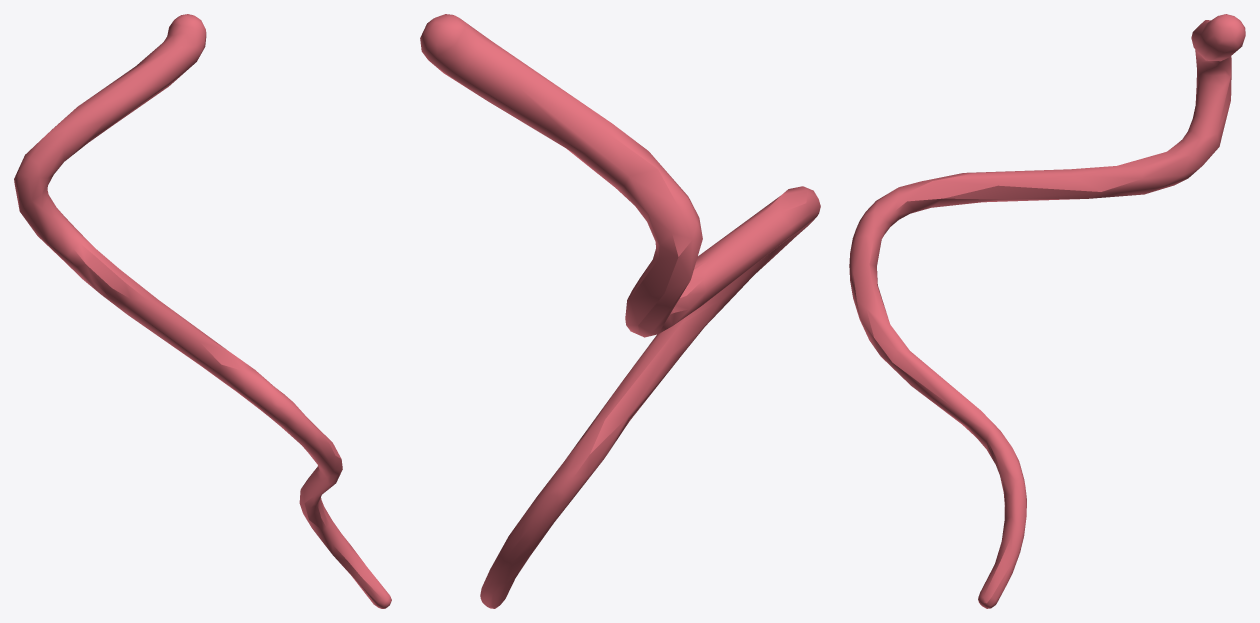
File: fma85529_fj4713.glb
3 renders of one model, left to right at view 1: azimuth 30°, elevation 25°; view 2: azimuth 150°, elevation 25°; view 3: azimuth 270°, elevation 25°, orthographic. The views are drawn at different scales.
Visible parts, largest first — view 1: FMA85529_FJ4713; view 2: FMA85529_FJ4713; view 3: FMA85529_FJ4713.
Part boxes in pixels (bbox=[...]): FMA85529_FJ4713: bbox=[14, 14, 391, 608]; FMA85529_FJ4713: bbox=[420, 14, 820, 608]; FMA85529_FJ4713: bbox=[849, 14, 1245, 608].
Bounding box in the file's own units: 0.00762 × 0.0145 × 0.00944.
